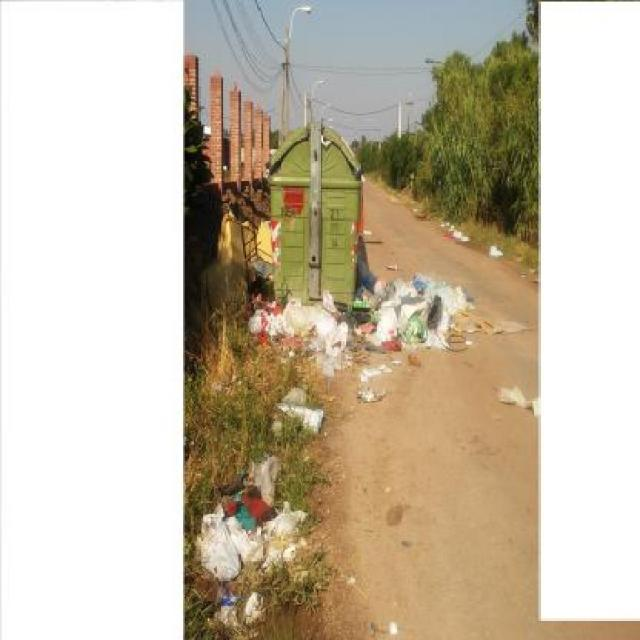garbage: (263, 136, 364, 309), (199, 477, 306, 618), (376, 278, 536, 350), (249, 286, 374, 354), (271, 391, 322, 446), (240, 217, 274, 294), (492, 374, 540, 416), (220, 219, 242, 299), (194, 256, 223, 312), (357, 352, 402, 380), (388, 506, 422, 532), (357, 383, 391, 407), (240, 456, 279, 475), (440, 217, 469, 242), (259, 212, 272, 253), (528, 265, 541, 289), (405, 351, 423, 368), (489, 245, 502, 260), (389, 623, 401, 634), (412, 205, 420, 212), (391, 195, 398, 202)
